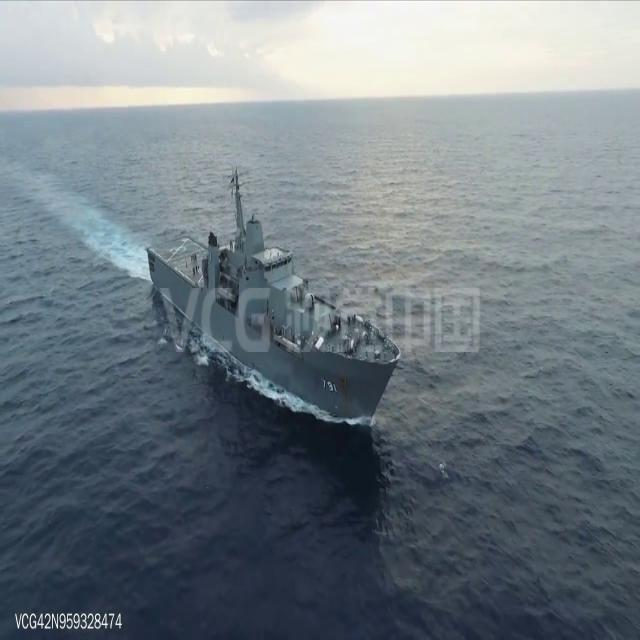navalvessels: (141, 162, 397, 430)
